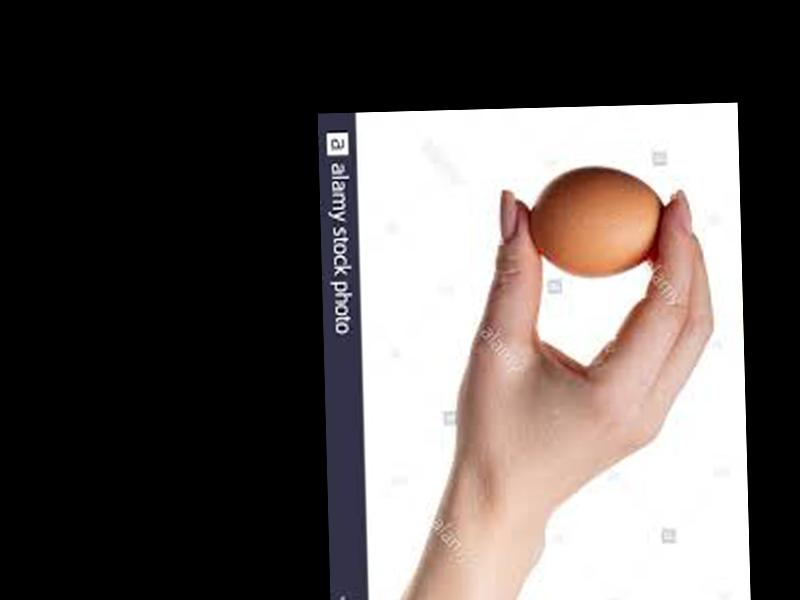Eggs: (531, 166, 665, 281)
